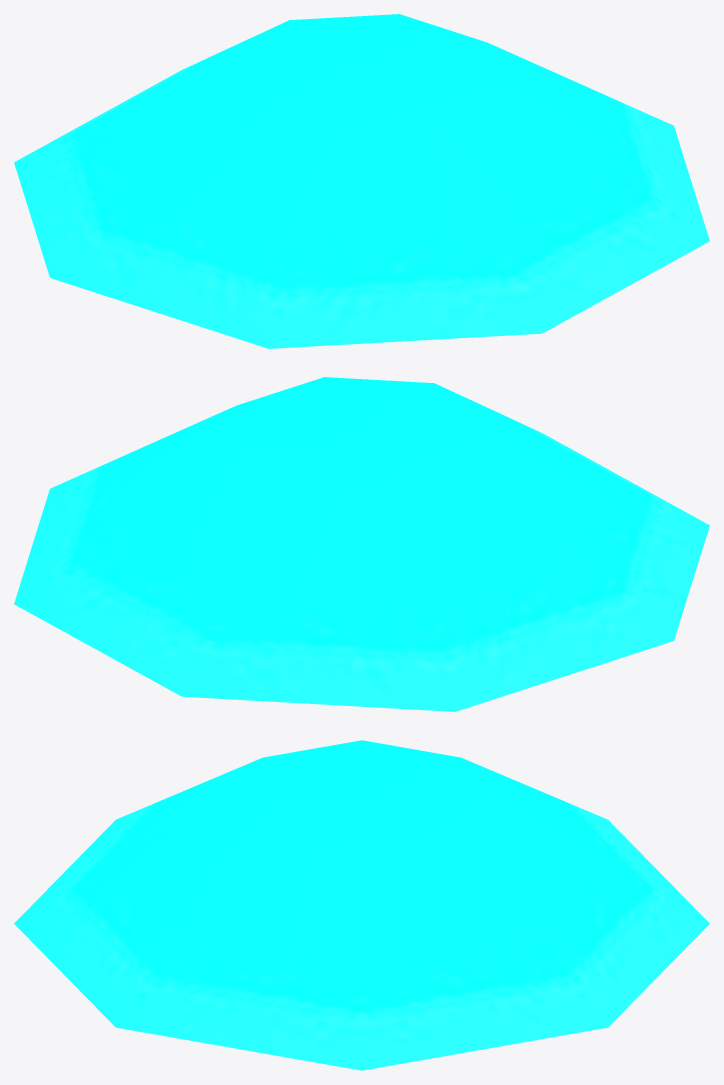
The model's file is defaultconeneonblue.glb.
The picture shows the model from 3 angles, top to bottom: view 1: azimuth 30°, elevation 25°; view 2: azimuth 150°, elevation 25°; view 3: azimuth 270°, elevation 25°; orthographic projection. The views are drawn at different scales.
Parts seen in each view (by area): view 1: DefaultConeNeonBlue; view 2: DefaultConeNeonBlue; view 3: DefaultConeNeonBlue.
Boxes of the visible parts, <box> form: DefaultConeNeonBlue: <box>14,14,709,348</box>; DefaultConeNeonBlue: <box>14,377,709,711</box>; DefaultConeNeonBlue: <box>14,740,709,1070</box>.
Bounding box in the file's own units: 0.312 × 0.0614 × 0.312.
1 material, 1 textured.
